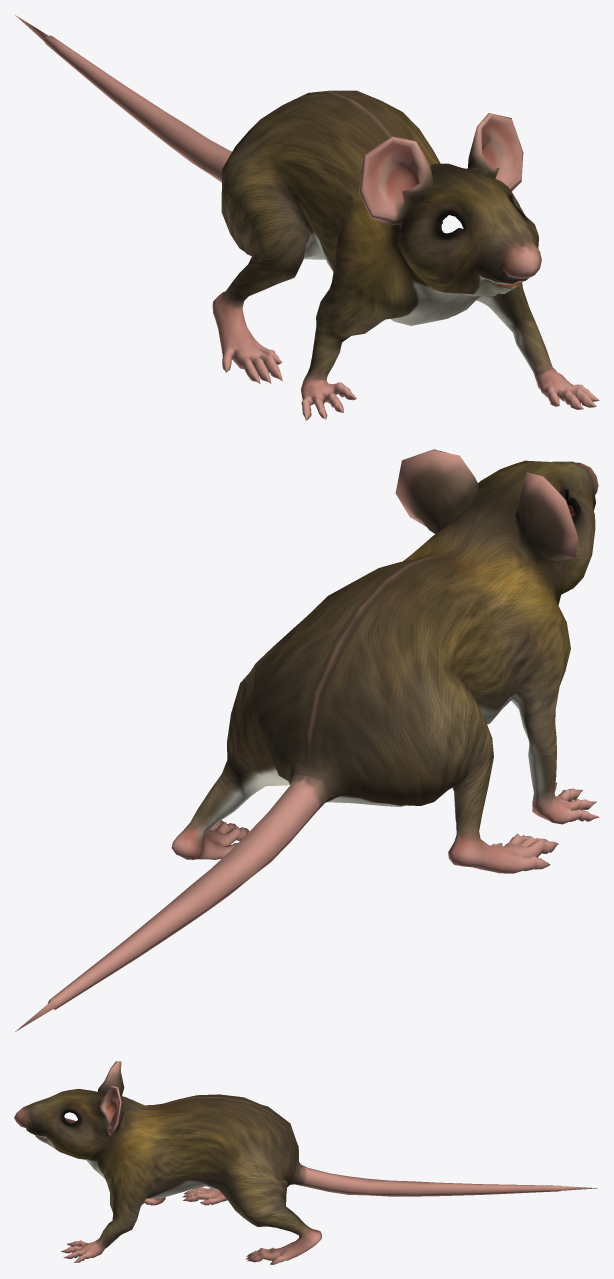
The model's file is Mouse_14.gltf.
3 views of the same model, one above another, from view 1: azimuth 30°, elevation 25°; view 2: azimuth 150°, elevation 25°; view 3: azimuth 270°, elevation 25° (orthographic). The views are drawn at different scales.
Visible parts, largest first — view 1: Polygon (Copy); view 2: Polygon (Copy); view 3: Polygon (Copy).
Boxes of the visible parts, left/top/right/bottom form: Polygon (Copy): left=15, top=15, right=599, bottom=420; Polygon (Copy): left=15, top=449, right=599, bottom=1031; Polygon (Copy): left=14, top=1061, right=597, bottom=1264.
Size of the model in its own units: 70.29 by 69.26 by 232.
1 material, 1 textured.
